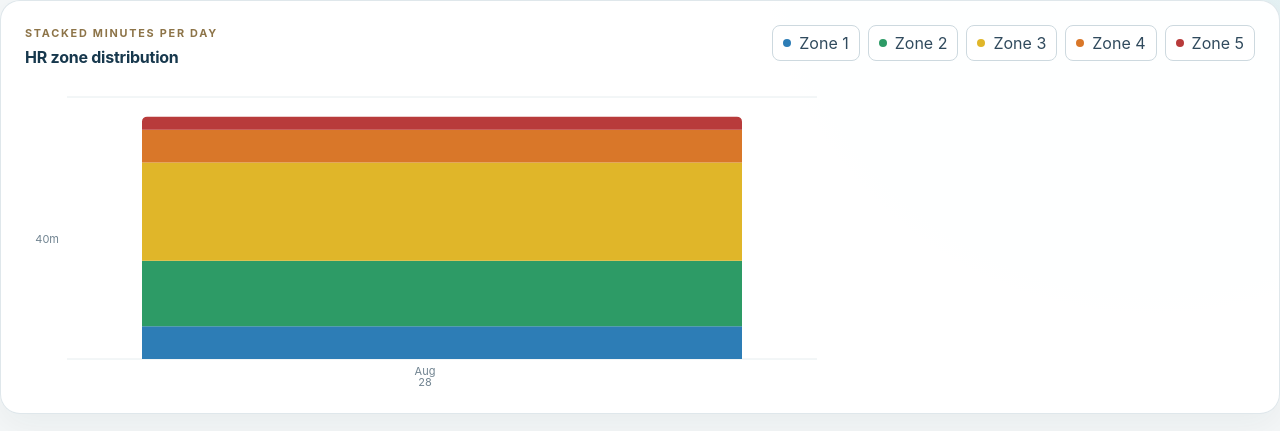
Test: chart visibility controls › shows an instruction after every HR zone is disabled
This screenshot has width=1280, height=431.
Click the button "Zone 1": (816, 43) [772, 25, 860, 61]
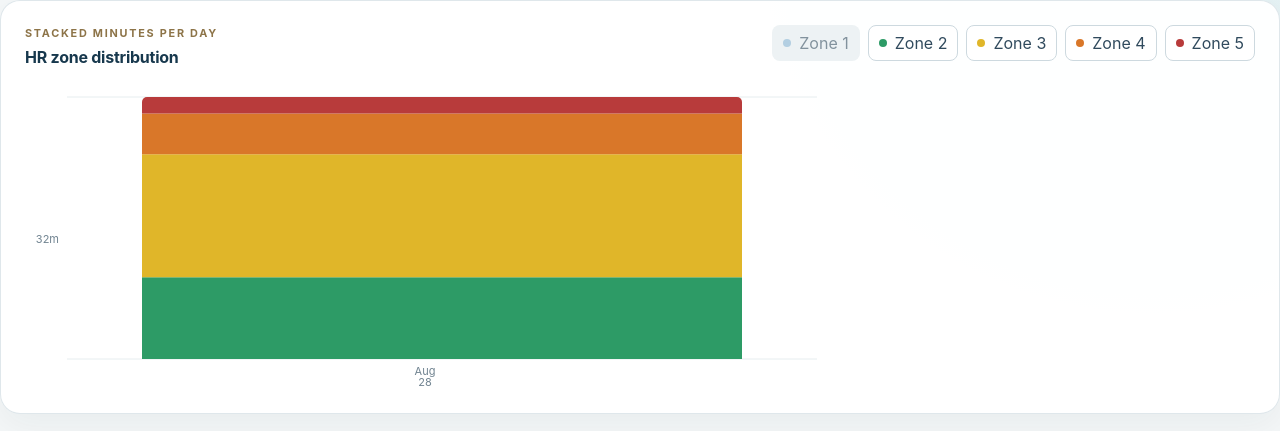
Click the button "Zone 2": (913, 43) [868, 25, 958, 61]
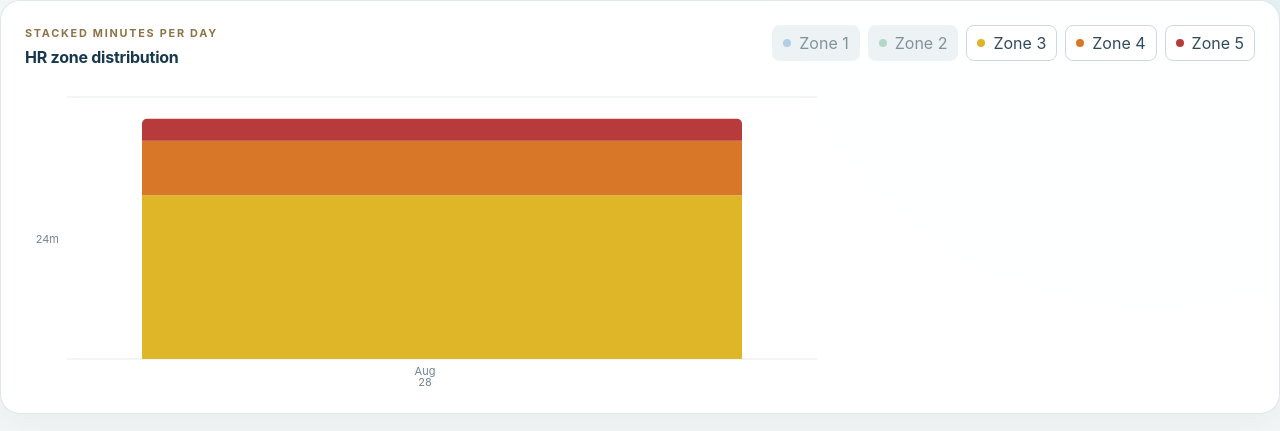
Click the button "Zone 3": (1012, 43) [966, 25, 1057, 61]
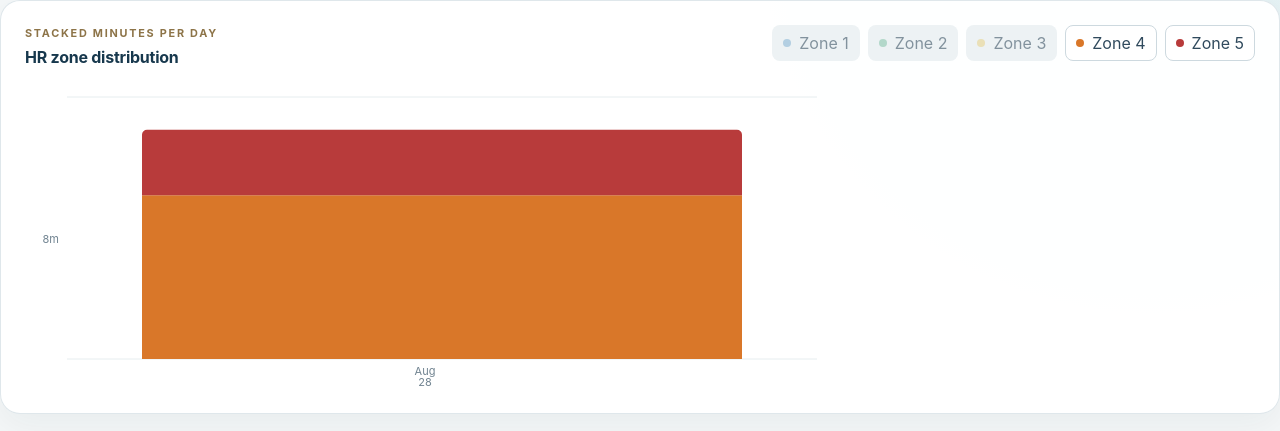
Click the button "Zone 4": (1111, 43) [1065, 25, 1157, 61]
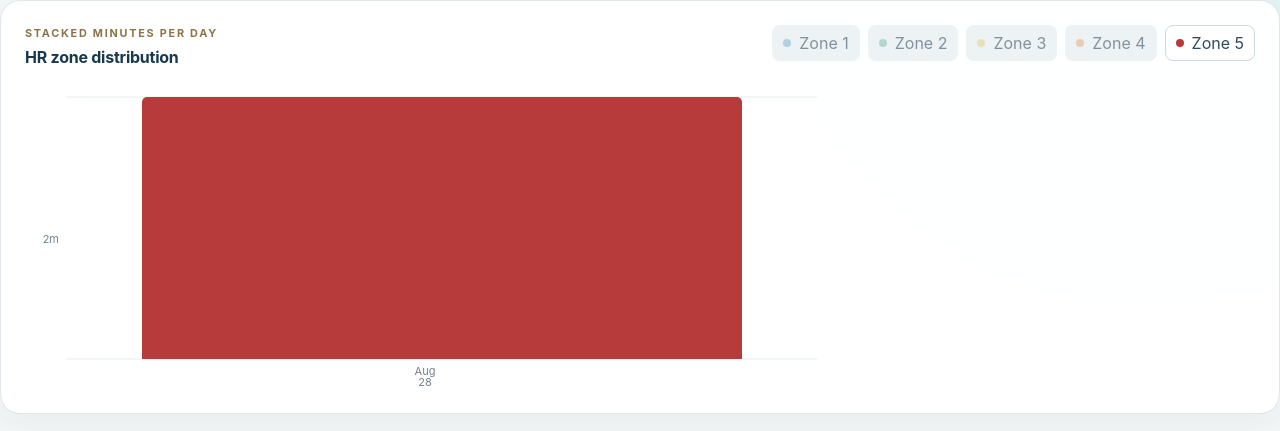
Click the button "Zone 5": (1210, 43) [1165, 25, 1255, 61]
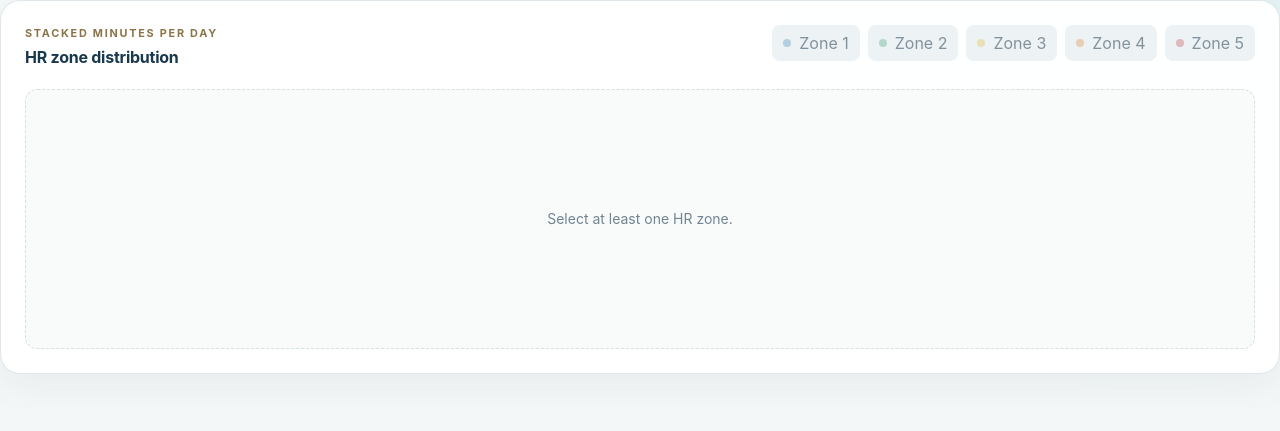
Result: the text "Select at least one HR zone." is shown at [25, 89, 1255, 349]
